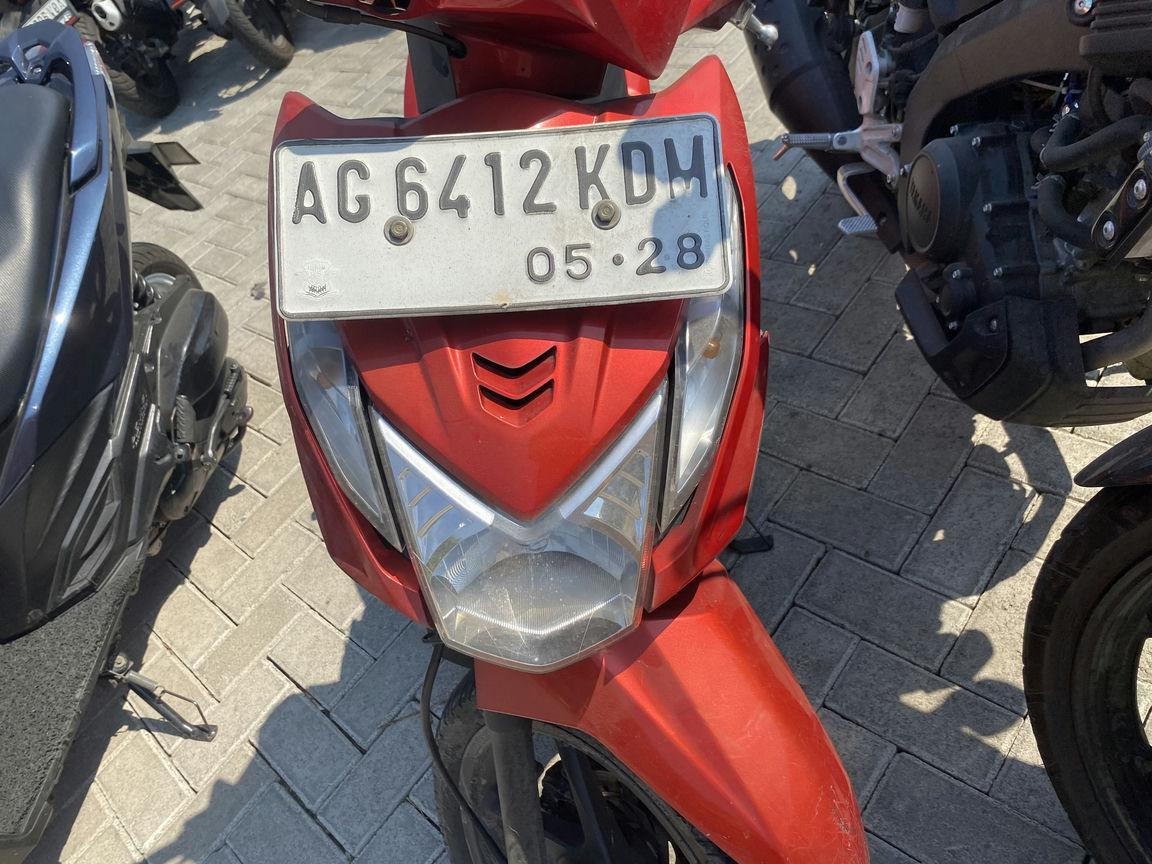plat: (274, 115, 734, 322)
